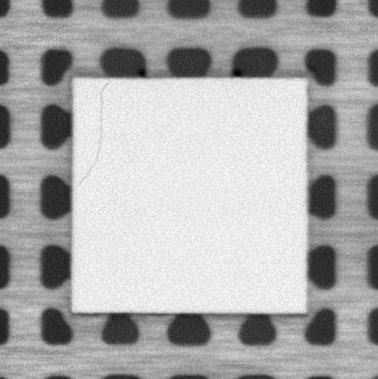DIE_CRACK: (77, 81, 108, 187)
